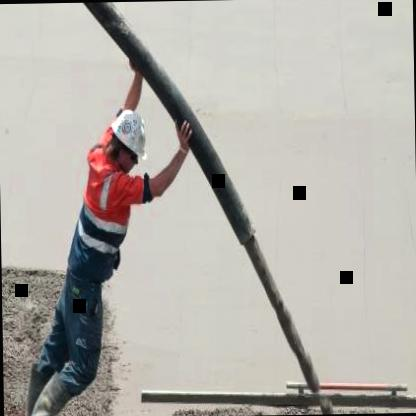helmet: (91, 104, 154, 184)
